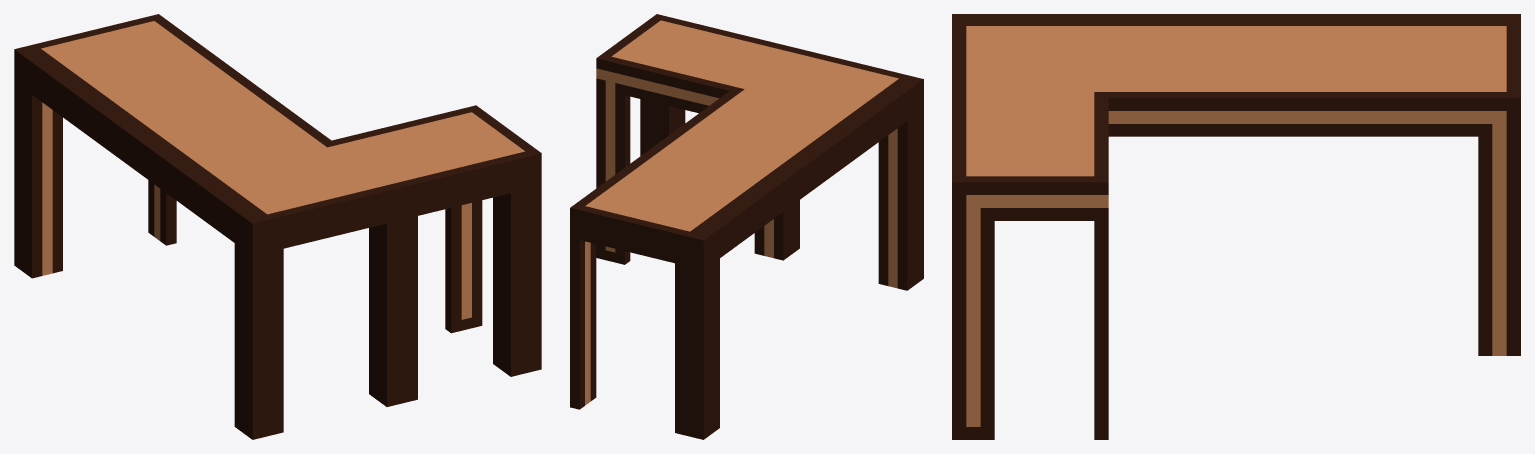
File: worktable.obj
3 views of the same model, side by side, from view 1: azimuth 30°, elevation 25°; view 2: azimuth 150°, elevation 25°; view 3: azimuth 270°, elevation 25° (orthographic). The views are drawn at different scales.
Size of the model in its own units: 2.8 by 2 by 4.
Materials: 1 (1 with a texture image).
